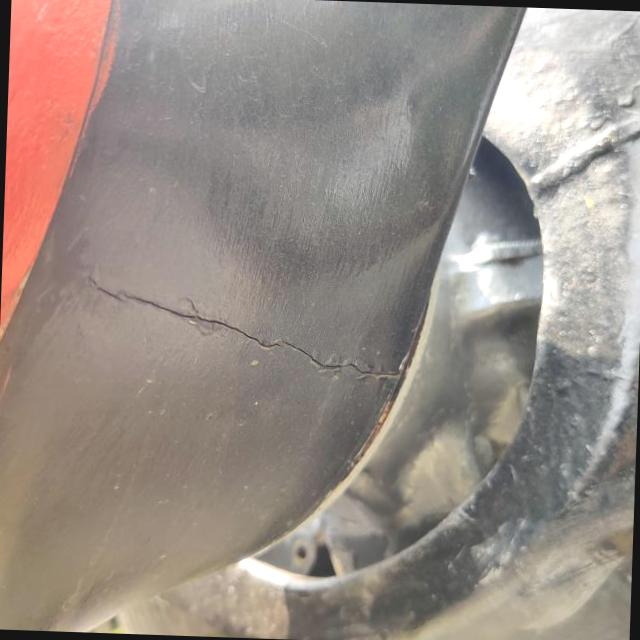crack: (69, 248, 416, 428)
